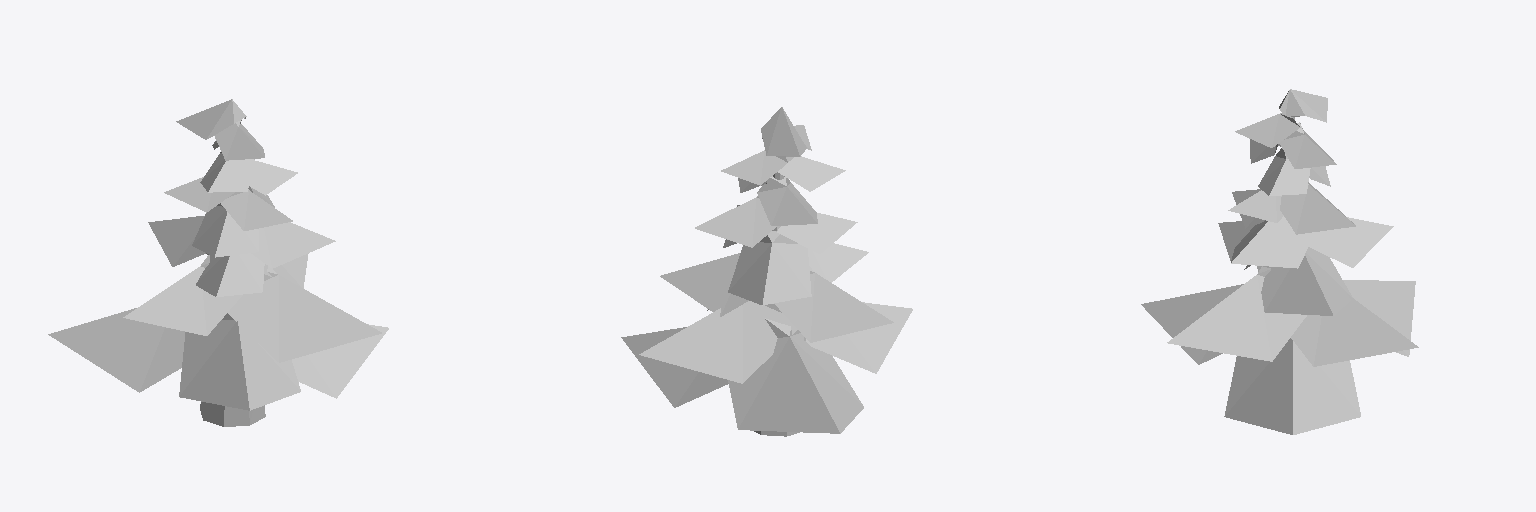
Rendered from tree.obj.
3 views of the same model, side by side, from view 1: azimuth 30°, elevation 25°; view 2: azimuth 150°, elevation 25°; view 3: azimuth 270°, elevation 25° (orthographic).
Parts seen in each view (by area): view 1: TreeLeaf; view 2: TreeLeaf; view 3: TreeLeaf.
Boxes of the visible parts, x1=… form: TreeLeaf: x1=48, y1=99, x2=388, y2=426; TreeLeaf: x1=621, y1=107, x2=912, y2=436; TreeLeaf: x1=1141, y1=89, x2=1418, y2=434.
Bounding box in the file's own units: 0.6856 × 0.7368 × 0.5899.